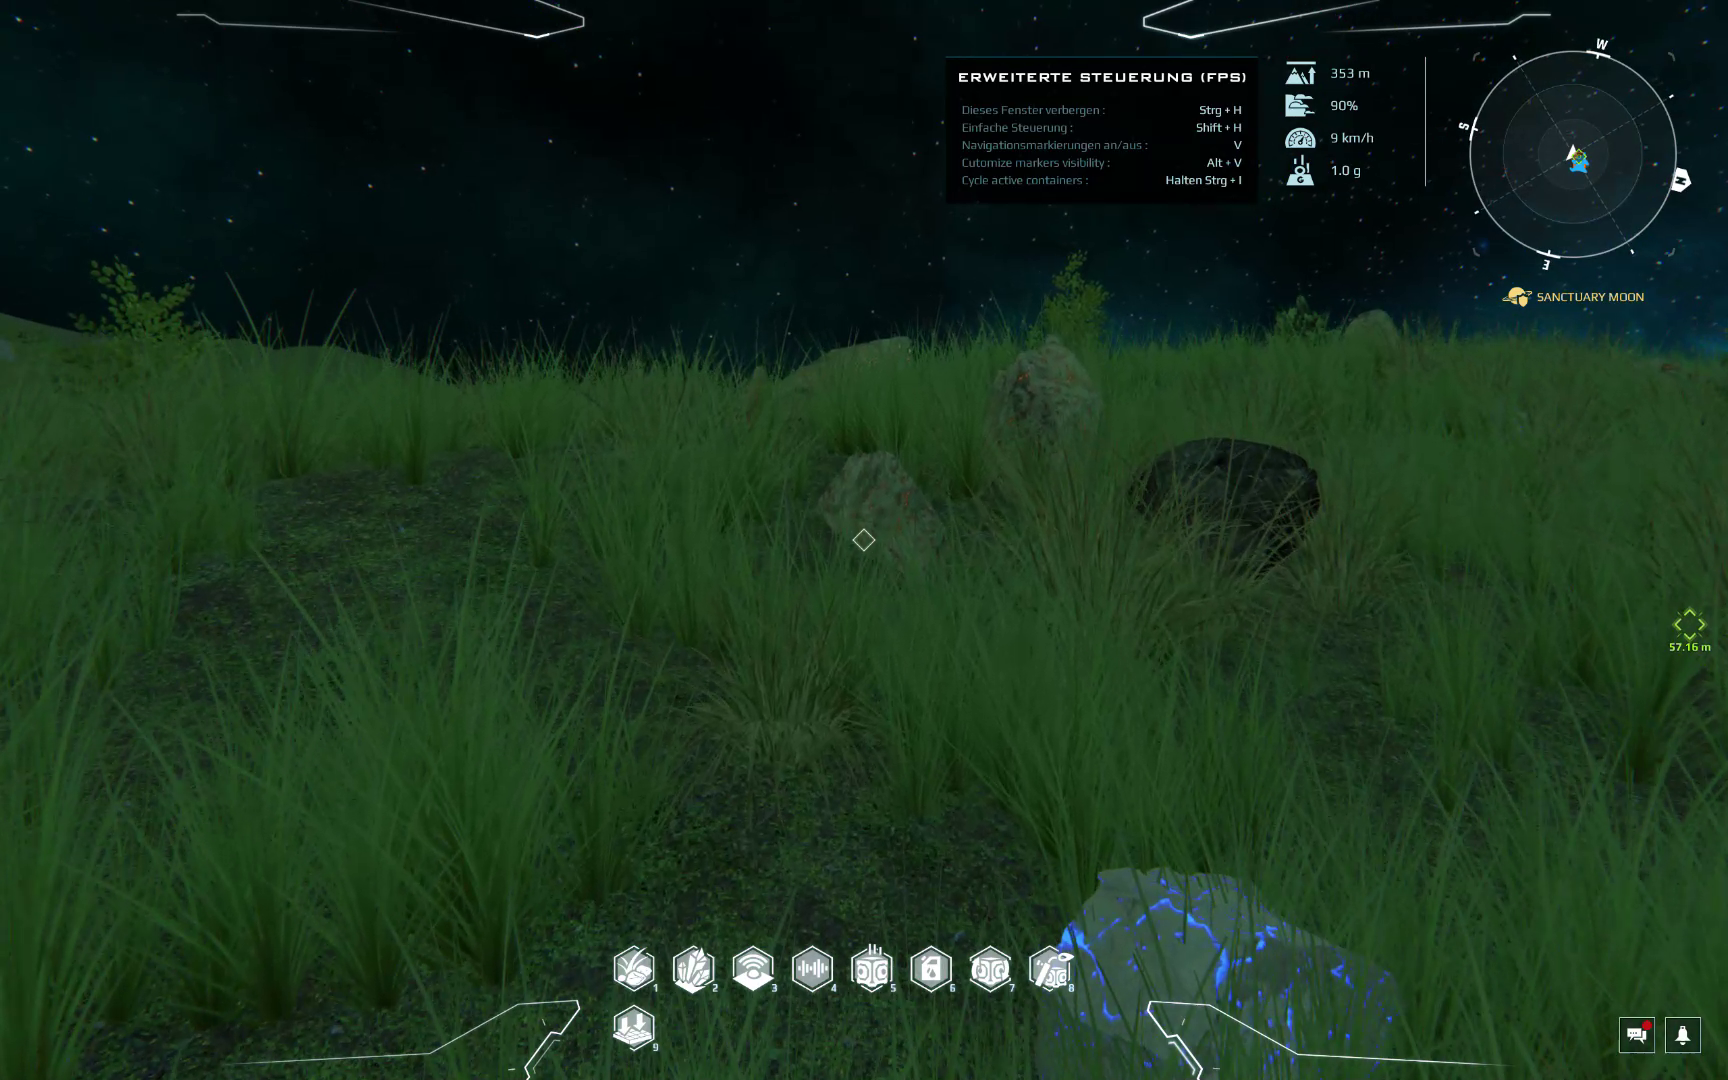Ore: (1033, 862, 1419, 1075), (1122, 435, 1325, 572), (977, 337, 1096, 500), (814, 450, 948, 569), (792, 335, 909, 393)
